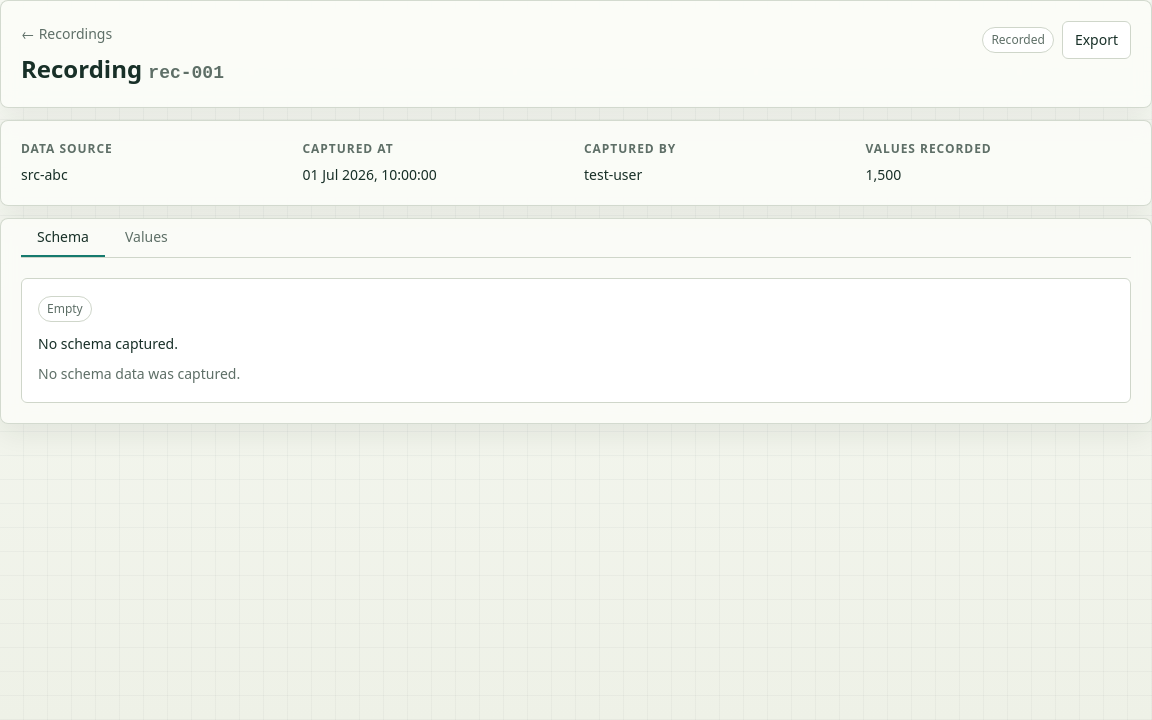
Test: RecordingDetailPage — values tab (UI-119) › shows all-loaded message when all values fetched
Click the button "Values" at (146, 238), box left=109, top=219, right=184, bottom=257
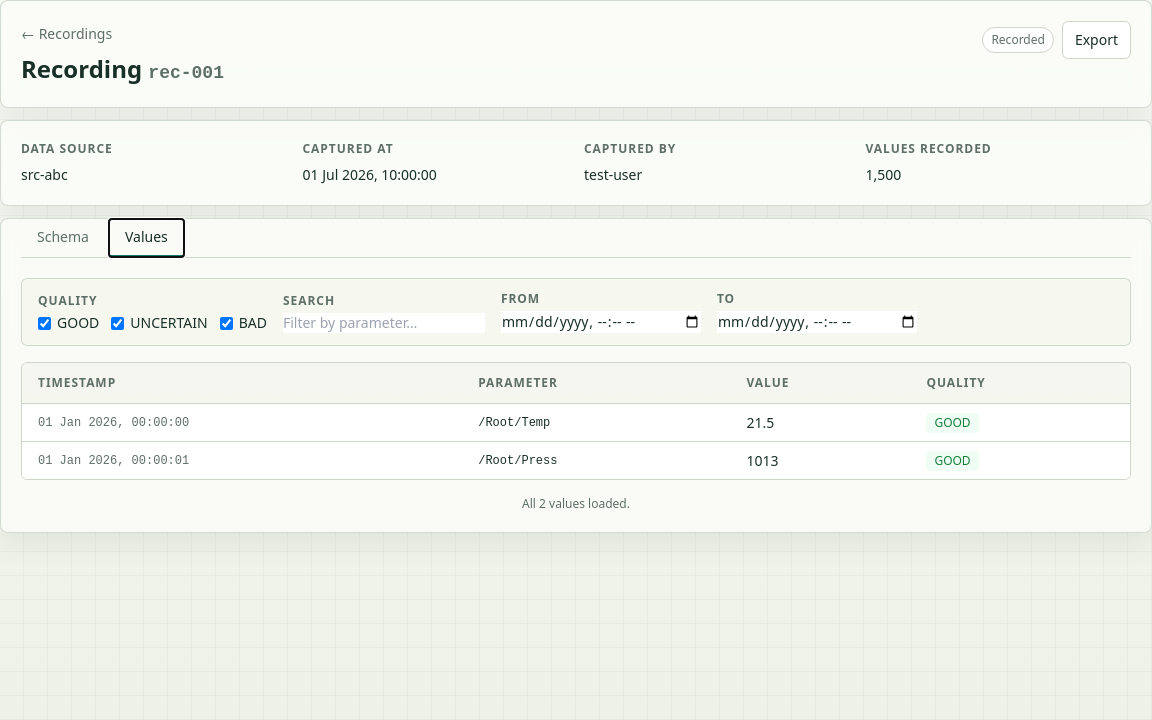
Result: the text "All 2 values loaded." is shown at left=522, top=495, right=630, bottom=512
